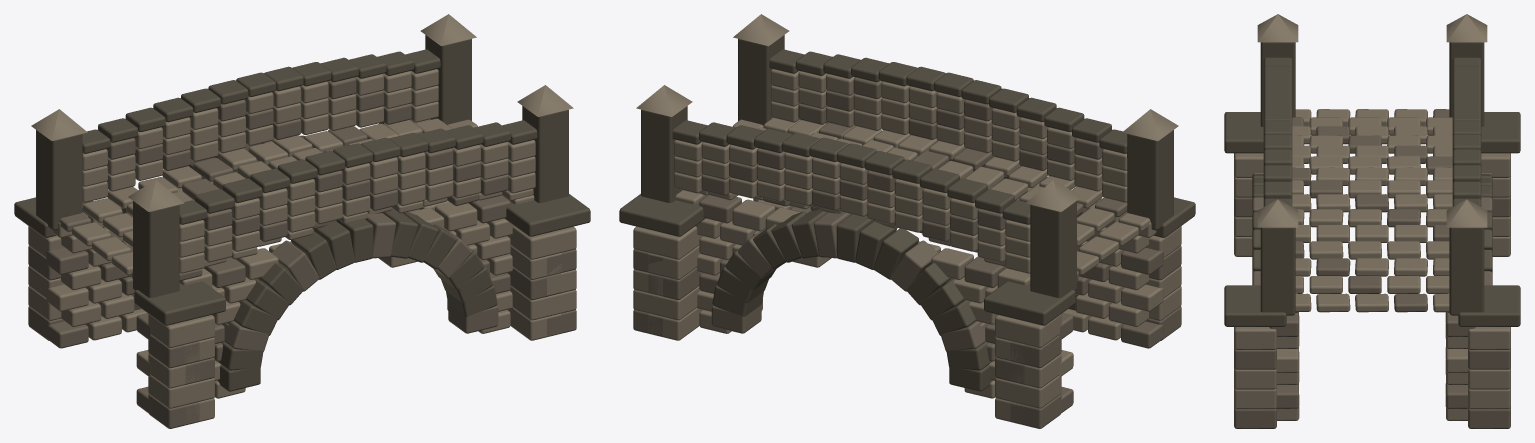
Rendered from stone-bridge.glb.
3 views of the same model, side by side, from view 1: azimuth 30°, elevation 25°; view 2: azimuth 150°, elevation 25°; view 3: azimuth 270°, elevation 25° (orthographic). The views are drawn at different scales.
Parts seen in each view (by area): view 1: stone-bridge-farm-stone, stone-bridge-farm-stone-dark, stone-bridge-farm-rock; view 2: stone-bridge-farm-stone, stone-bridge-farm-stone-dark, stone-bridge-farm-rock; view 3: stone-bridge-farm-stone, stone-bridge-farm-stone-dark, stone-bridge-farm-rock.
Boxes of the visible parts, x1,y1,x2,y2 form: stone-bridge-farm-stone: [28, 14, 576, 425]; stone-bridge-farm-stone-dark: [14, 35, 590, 391]; stone-bridge-farm-rock: [28, 77, 576, 428]; stone-bridge-farm-stone: [633, 14, 1181, 425]; stone-bridge-farm-stone-dark: [619, 35, 1195, 391]; stone-bridge-farm-rock: [633, 77, 1181, 428]; stone-bridge-farm-stone: [1234, 14, 1510, 420]; stone-bridge-farm-stone-dark: [1224, 42, 1520, 326]; stone-bridge-farm-rock: [1234, 109, 1510, 428].
Bounding box in the file's own units: 6.18 × 3.21 × 3.81.
